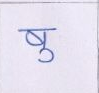u_matra: (38, 49, 56, 63)
